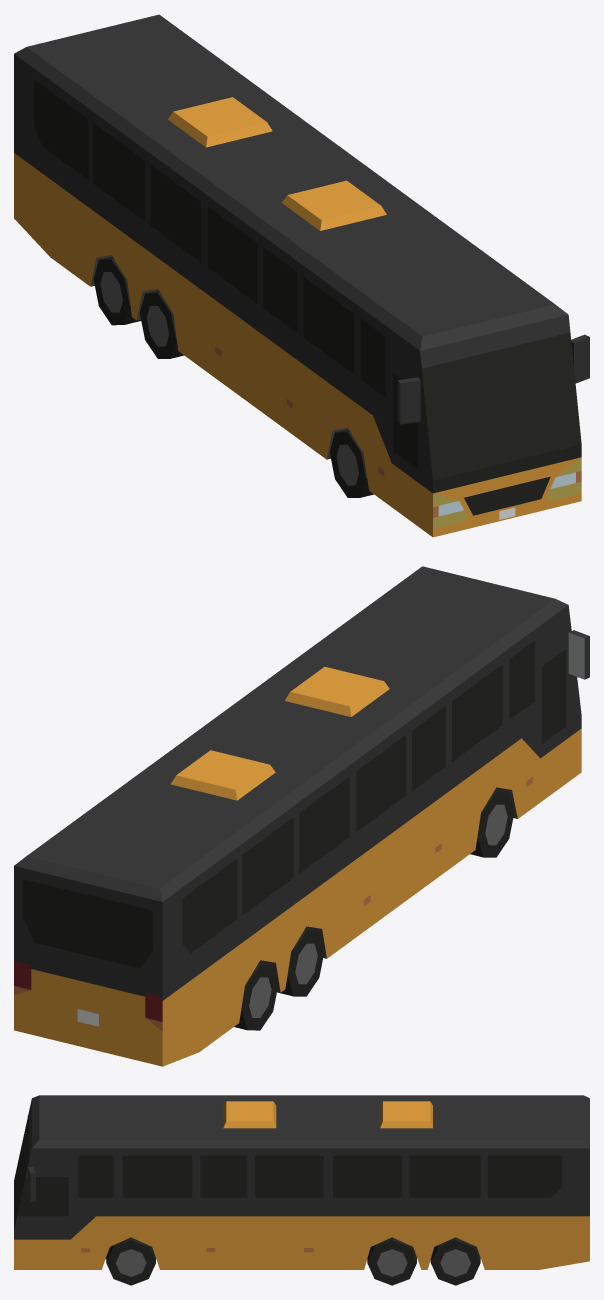
Rendered from Veh_Coach_01_Yellow.glb.
3 renders of one model, top to bottom at view 1: azimuth 30°, elevation 25°; view 2: azimuth 150°, elevation 25°; view 3: azimuth 270°, elevation 25°, orthographic. The views are drawn at different scales.
Parts seen in each view (by area): view 1: Coach_01_Yellow, Wheel_FR, Wheel_RR2, Wheel_RR1; view 2: Coach_01_Yellow, Wheel_RR1, Wheel_RR2, Wheel_FR; view 3: Coach_01_Yellow, Wheel_RL2, Wheel_RL1, Wheel_FL.
Boxes of the visible parts, <box> form: Coach_01_Yellow: <box>14,14,589,537</box>; Wheel_FR: <box>329,429,373,497</box>; Wheel_RR2: <box>93,256,141,325</box>; Wheel_RR1: <box>140,290,183,358</box>; Coach_01_Yellow: <box>14,566,589,1066</box>; Wheel_RR1: <box>277,928,324,996</box>; Wheel_RR2: <box>234,962,278,1030</box>; Wheel_FR: <box>470,789,514,857</box>; Coach_01_Yellow: <box>14,1095,589,1269</box>; Wheel_RL2: <box>430,1237,480,1285</box>; Wheel_RL1: <box>367,1237,416,1285</box>; Wheel_FL: <box>106,1237,155,1285</box>.
Bounding box in the file's own units: 1.75 × 1.9 × 6.68.
Materials: 1 (1 with a texture image).
